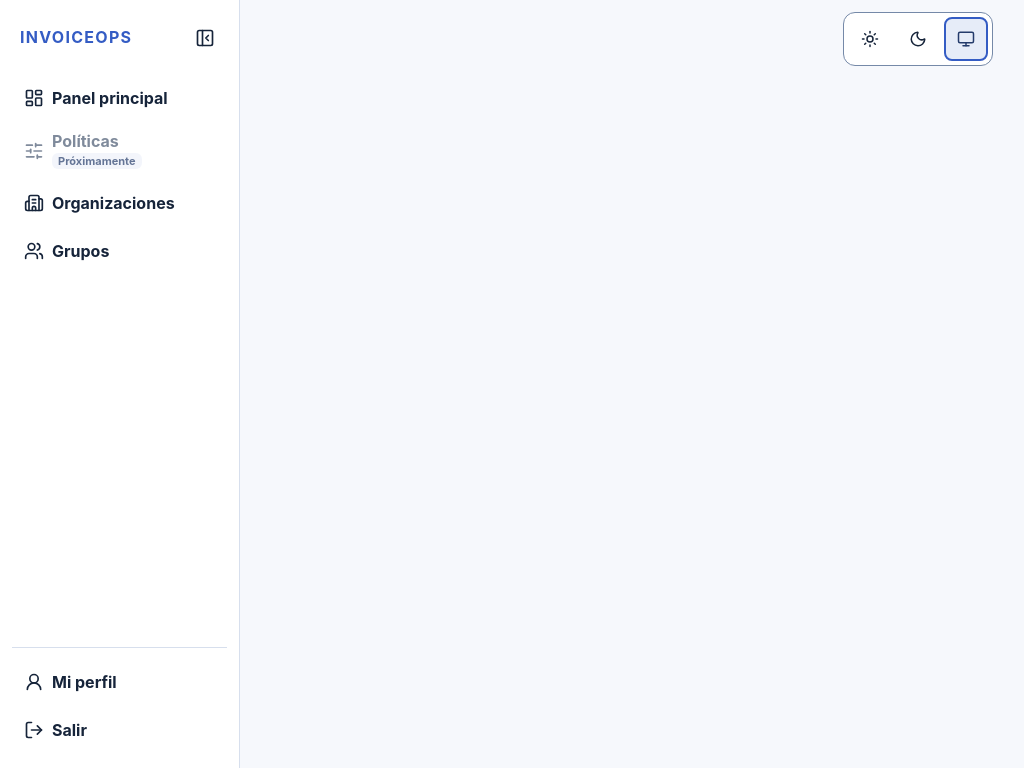
it: APP12 S7 administration › never exposes administration or discovery to a regular student
Click the link "Organizaciones".
click(99, 204)  # box [24,194,175,214]
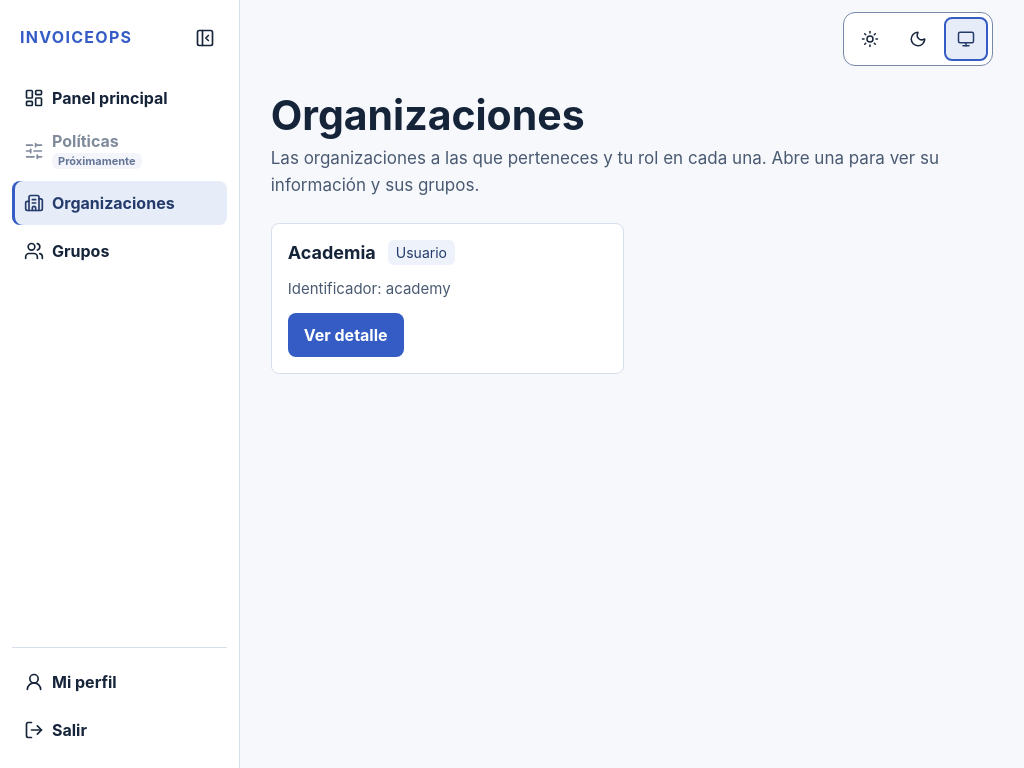
Click the link with aria-label "Ver detalle de Academia".
click(346, 335)  # box [288,313,404,357]
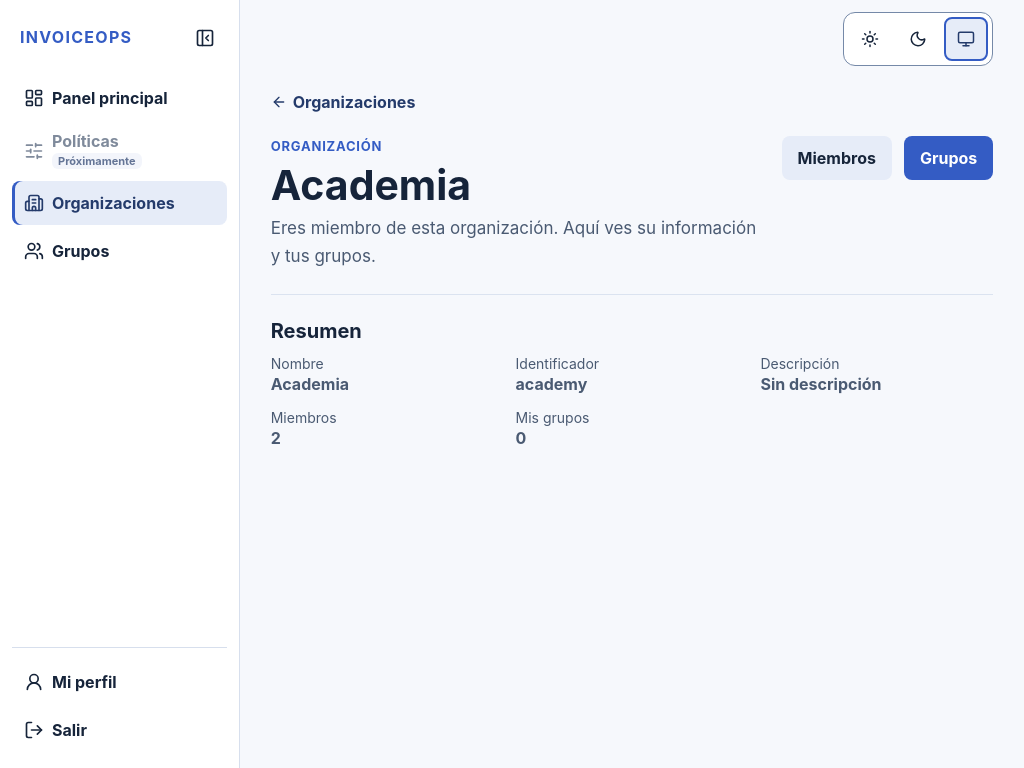
Result: the heading "Academia" is shown at [271,160,471,210]
Result: the link "Miembros" is shown at [782,136,892,180]
